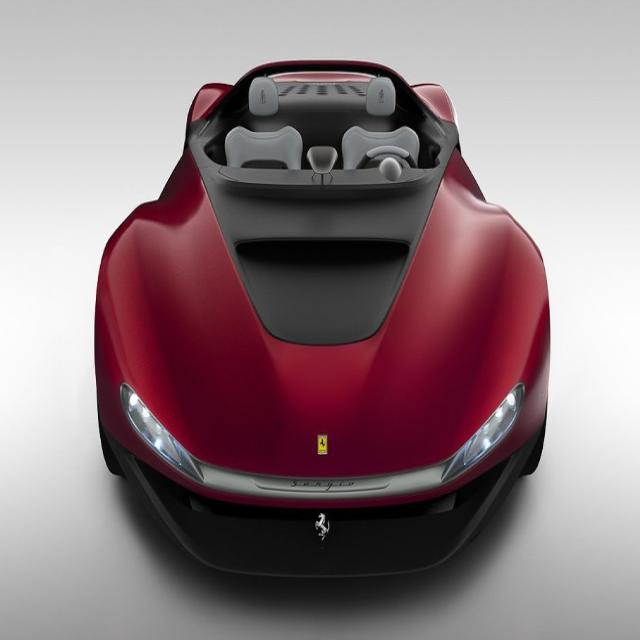front_bumper: (113, 441, 525, 591)
front_glass: (181, 35, 465, 193)
front_left_side_light: (431, 358, 538, 508)
front_right_side_light: (114, 369, 212, 499)
